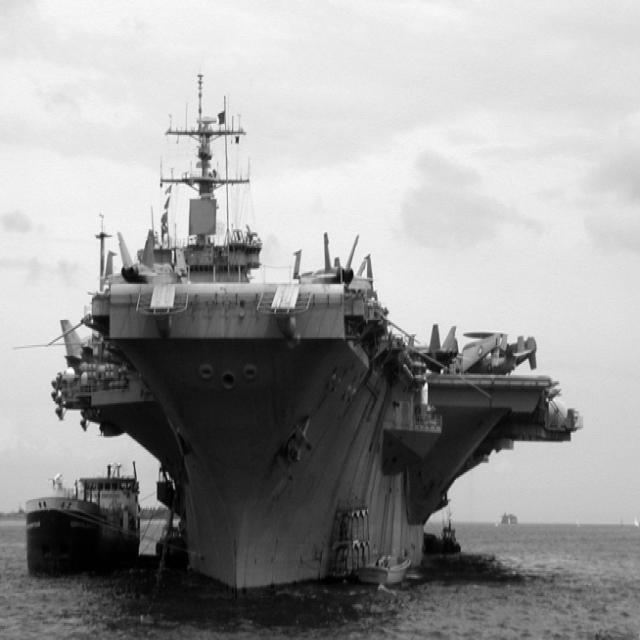Portanaves: (56, 72, 582, 619)
